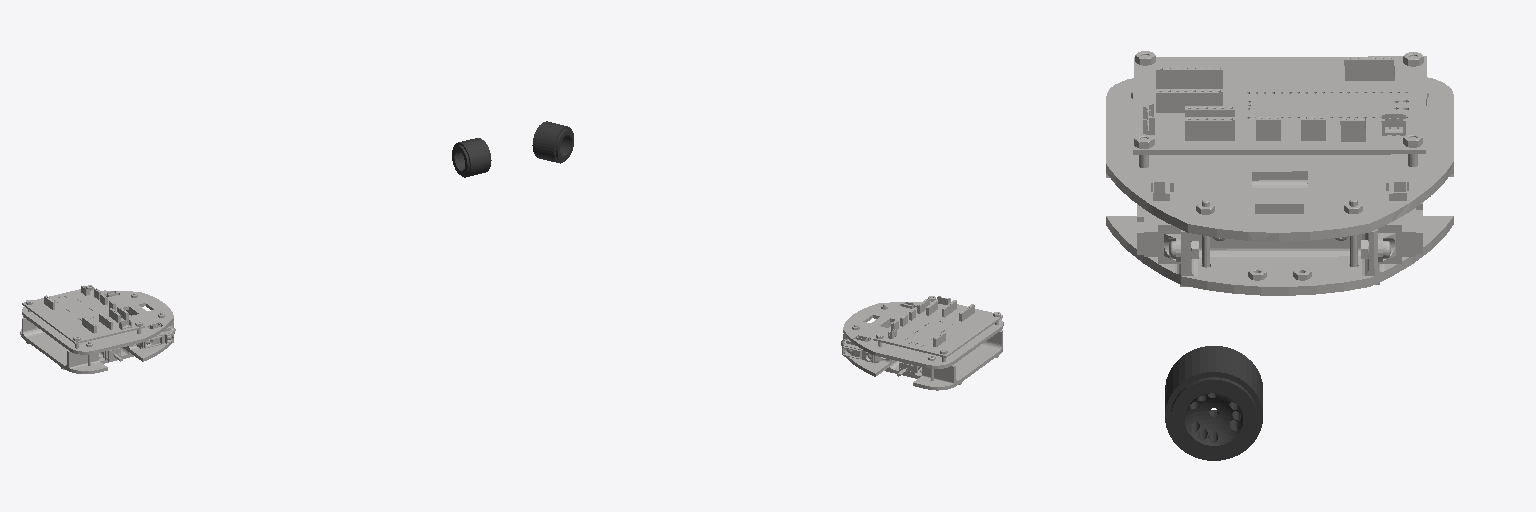
The robot description file, URDF, robot "taurus_description":
<?xml version="1.0" encoding="utf-8"?>
<!-- This URDF was automatically created by SolidWorks to URDF Exporter! Originally created by [author] ([email redacted]) 
     Commit Version: 1.6.0-4-g7f85cfe  Build Version: 1.6.7995.38578
     For more information, please see http://wiki.ros.org/sw_urdf_exporter -->
<robot
  name="taurus_description">
  <link
    name="base_link">
    <inertial>
      <origin
        xyz="0.323513290580689 0.109909851454141 0.0273636827046401"
        rpy="0 0 0" />
      <mass
        value="0.109923704165007" />
      <inertia
        ixx="8.50009197810057E-05"
        ixy="-1.86085775017922E-07"
        ixz="3.57248183955067E-07"
        iyy="0.00014440100030123"
        iyz="-3.65582256475082E-07"
        izz="6.25023471997517E-05" />
    </inertial>
    <visual>
      <origin
        xyz="0 0 0"
        rpy="0 0 0" />
      <geometry>
        <mesh
          filename="package://taurus_description/meshes/base_link.STL" />
      </geometry>
      <material
        name="">
        <color
          rgba="0.745098039215686 0.737254901960784 0.729411764705882 1" />
      </material>
    </visual>
    <collision>
      <origin
        xyz="0 0 0"
        rpy="0 0 0" />
      <geometry>
        <mesh
          filename="package://taurus_description/meshes/base_link.STL" />
      </geometry>
    </collision>
  </link>
  <link
    name="Rueda_derecha_link">
    <inertial>
      <origin
        xyz="-6.8527E-05 -1.7015E-08 0.012107"
        rpy="0 0 0" />
      <mass
        value="0.010873" />
      <inertia
        ixx="1.181E-06"
        ixy="1.6996E-12"
        ixz="2.0191E-09"
        iyy="1.1758E-06"
        iyz="7.7776E-15"
        izz="1.5164E-06" />
    </inertial>
    <visual>
      <origin
        xyz="0 0 0"
        rpy="0 0 0" />
      <geometry>
        <mesh
          filename="package://taurus_description/meshes/Rueda_derecha_link.STL" />
      </geometry>
      <material
        name="">
        <color
          rgba="0.29804 0.29804 0.29804 1" />
      </material>
    </visual>
    <collision>
      <origin
        xyz="0 0 0"
        rpy="0 0 0" />
      <geometry>
        <mesh
          filename="package://taurus_description/meshes/Rueda_derecha_link.STL" />
      </geometry>
    </collision>
  </link>
  <joint
    name="Rueda_derecha_joint"
    type="continuous">
    <origin
      xyz="0.26401 -0.020126 0.10147"
      rpy="0.0001876 -1.5693 -3.1416" />
    <parent
      link="base_link" />
    <child
      link="Rueda_derecha_link" />
    <axis
      xyz="0 0 1" />
  </joint>
  <link
    name="Rueda_izquierda_link">
    <inertial>
      <origin
        xyz="-6.8527E-05 -1.6996E-08 -0.010976"
        rpy="0 0 0" />
      <mass
        value="0.010873" />
      <inertia
        ixx="1.181E-06"
        ixy="1.6982E-12"
        ixz="2.0191E-09"
        iyy="1.1758E-06"
        iyz="7.2168E-15"
        izz="1.5164E-06" />
    </inertial>
    <visual>
      <origin
        xyz="0 0 0"
        rpy="0 0 0" />
      <geometry>
        <mesh
          filename="package://taurus_description/meshes/Rueda_izquierda_link.STL" />
      </geometry>
      <material
        name="">
        <color
          rgba="0.29804 0.29804 0.29804 1" />
      </material>
    </visual>
    <collision>
      <origin
        xyz="0 0 0"
        rpy="0 0 0" />
      <geometry>
        <mesh
          filename="package://taurus_description/meshes/Rueda_izquierda_link.STL" />
      </geometry>
    </collision>
  </link>
  <joint
    name="Rueda_izquierda_joint"
    type="continuous">
    <origin
      xyz="0.36027 -0.020097 0.1016"
      rpy="3.1414 1.5693 0" />
    <parent
      link="base_link" />
    <child
      link="Rueda_izquierda_link" />
    <axis
      xyz="0 0 1" />
  </joint>
  <link
    name="Scan_link">
    <inertial>
      <origin
        xyz="0.000885457600863837 -0.000140038629656364 0.0100581985144375"
        rpy="0 0 0" />
      <mass
        value="0.00557152535083265" />
      <inertia
        ixx="2.35900215808513E-07"
        ixy="-6.46042117643978E-10"
        ixz="-3.62802799005922E-08"
        iyy="6.4739513423399E-07"
        iyz="-3.25890135837136E-09"
        izz="5.64993685064317E-07" />
    </inertial>
    <visual>
      <origin
        xyz="0 0 0"
        rpy="0 0 0" />
      <geometry>
        <mesh
          filename="package://taurus_description/meshes/Scan_link.STL" />
      </geometry>
      <material
        name="">
        <color
          rgba="0.792156862745098 0.819607843137255 0.933333333333333 1" />
      </material>
    </visual>
    <collision>
      <origin
        xyz="0 0 0"
        rpy="0 0 0" />
      <geometry>
        <mesh
          filename="package://taurus_description/meshes/Scan_link.STL" />
      </geometry>
    </collision>
  </link>
  <joint
    name="Scan_joint"
    type="fixed">
    <origin
      xyz="0.32379 -0.064246 0.10987"
      rpy="-1.5722 0.001918 -3.1414" />
    <parent
      link="base_link" />
    <child
      link="Scan_link" />
    <axis
      xyz="0 0 0" />
  </joint>
  <link
    name="Base_castor_link">
    <inertial>
      <origin
        xyz="0.0065742 -0.0049742 -1.8068E-07"
        rpy="0 0 0" />
      <mass
        value="0.00033463" />
      <inertia
        ixx="6.3206E-09"
        ixy="1.7295E-10"
        ixz="-4.7653E-13"
        iyy="1.0328E-08"
        iyz="-1.3617E-14"
        izz="6.9193E-09" />
    </inertial>
    <visual>
      <origin
        xyz="0 0 0"
        rpy="0 0 0" />
      <geometry>
        <mesh
          filename="package://taurus_description/meshes/Base_castor_link.STL" />
      </geometry>
      <material
        name="">
        <color
          rgba="0 0 0 1" />
      </material>
    </visual>
    <collision>
      <origin
        xyz="0 0 0"
        rpy="0 0 0" />
      <geometry>
        <mesh
          filename="package://taurus_description/meshes/Base_castor_link.STL" />
      </geometry>
    </collision>
  </link>
  <joint
    name="Base_castor_joint"
    type="fixed">
    <origin
      xyz="0.31693 -0.080982 0.090912"
      rpy="-1.5676 -0.0014801 0" />
    <parent
      link="base_link" />
    <child
      link="Base_castor_link" />
    <axis
      xyz="0 0 0" />
  </joint>
  <link
    name="Caster_ball_link">
    <inertial>
      <origin
        xyz="0.0066086 -0.0049888 -0.00032894"
        rpy="0 0 0" />
      <mass
        value="0.00042116" />
      <inertia
        ixx="3.6426E-09"
        ixy="-3.0292E-27"
        ixz="-7.7548E-26"
        iyy="3.6426E-09"
        iyz="1.2925E-26"
        izz="3.6426E-09" />
    </inertial>
    <visual>
      <origin
        xyz="0 0 0"
        rpy="0 0 0" />
      <geometry>
        <mesh
          filename="package://taurus_description/meshes/Caster_ball_link.STL" />
      </geometry>
      <material
        name="">
        <color
          rgba="1 1 1 1" />
      </material>
    </visual>
    <collision>
      <origin
        xyz="0 0 0"
        rpy="0 0 0" />
      <geometry>
        <mesh
          filename="package://taurus_description/meshes/Caster_ball_link.STL" />
      </geometry>
    </collision>
  </link>
  <joint
    name="Caster_ball_joint"
    type="continuous">
    <origin
      xyz="0.31694 -0.080972 0.087994"
      rpy="-1.5864 0.022479 0.035052" />
    <parent
      link="base_link" />
    <child
      link="Caster_ball_link" />
    <axis
      xyz="1 1 1" />
  </joint>
</robot>

--- Render facts (derived) ---
The picture shows the robot from 3 angles, left to right: view 1: azimuth 30°, elevation 25°; view 2: azimuth 150°, elevation 25°; view 3: azimuth 270°, elevation 25°; orthographic projection.
Model taurus_description with 6 links and 5 joints (3 continuous, 2 fixed), rooted at base_link, posed every joint at zero.
Links seen in each view (by area): view 1: base_link, Rueda_izquierda_link; view 2: base_link, Rueda_izquierda_link; view 3: base_link, Rueda_izquierda_link.
Boxes of the visible links, x1,y1,x2,y2 form: base_link: (20, 285, 175, 373); Rueda_izquierda_link: (452, 138, 491, 177); base_link: (841, 296, 1003, 390); Rueda_izquierda_link: (532, 121, 573, 163); base_link: (1106, 51, 1453, 295); Rueda_izquierda_link: (1165, 346, 1262, 460).
Size in the robot's own frame: 0.4116 by 0.1062 by 0.1186 metres.
Meshes: 6 distinct files referenced, 2 mesh visuals loaded (2 binary STL); not drawn: 4 (reference not matched to a file when rendering).